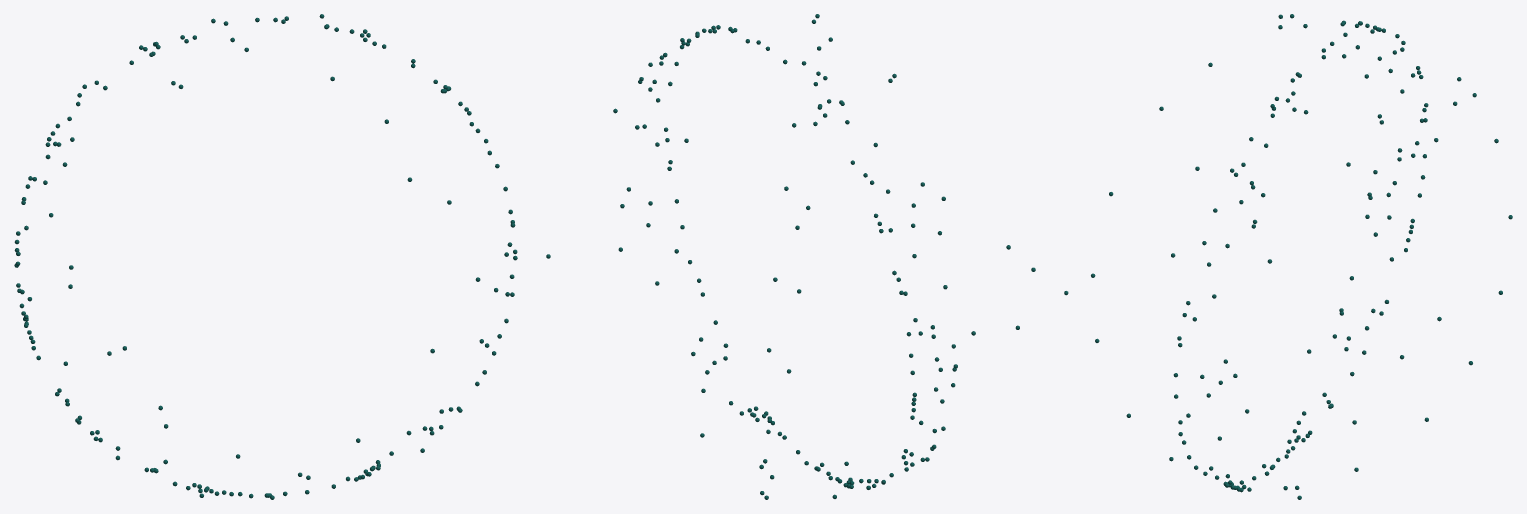
File: Planet Labs - 2m.glb
The picture shows the model from 3 angles, left to right: view 1: azimuth 30°, elevation 25°; view 2: azimuth 150°, elevation 25°; view 3: azimuth 270°, elevation 25°; orthographic projection. The views are drawn at different scales.
Visible parts, largest first — view 1: Planet Labs - 2m; view 2: Planet Labs - 2m; view 3: Planet Labs - 2m.
Boxes of the visible parts, <box> form: Planet Labs - 2m: <box>14,14,517,499</box>; Planet Labs - 2m: <box>546,14,1035,499</box>; Planet Labs - 2m: <box>1064,14,1512,499</box>.
Bounding box in the file's own units: 0.3379 × 0.3458 × 0.3218.
